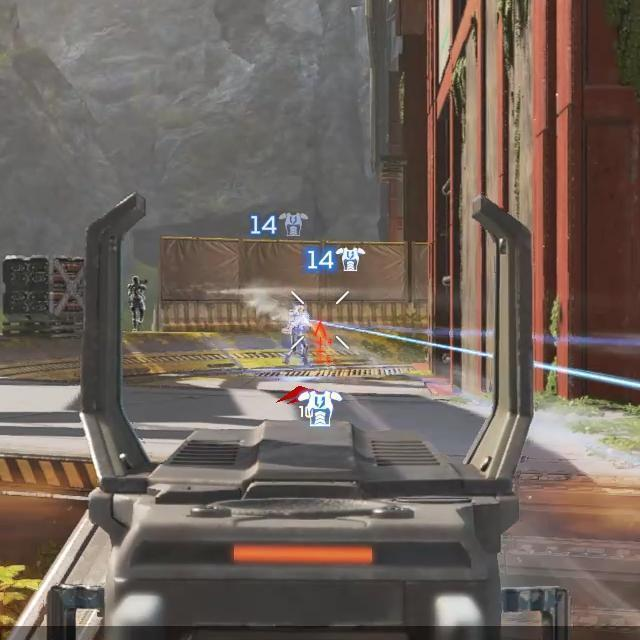avatar: (127, 274, 149, 333)
